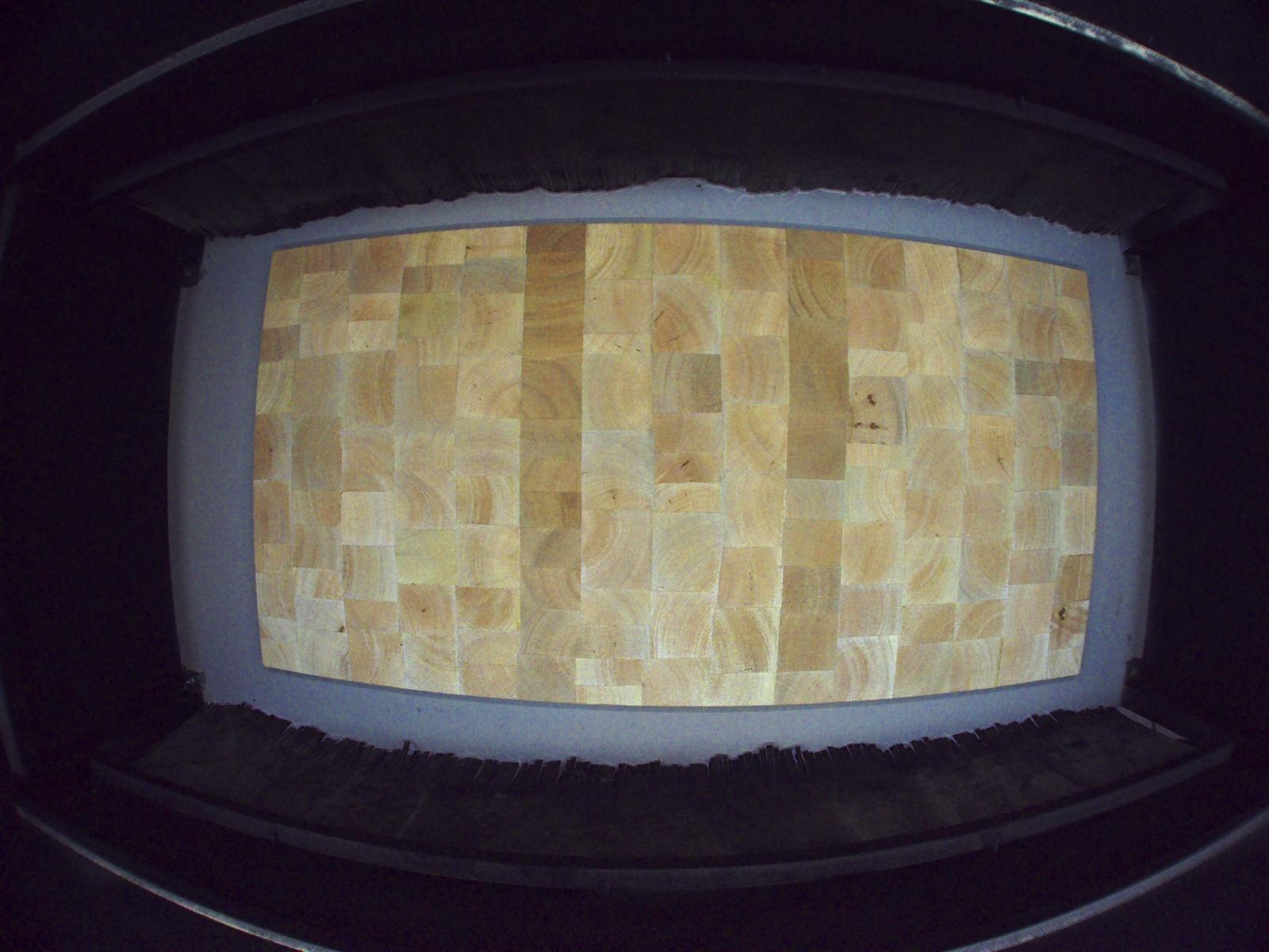nudillo: (1056, 606, 1067, 622)
